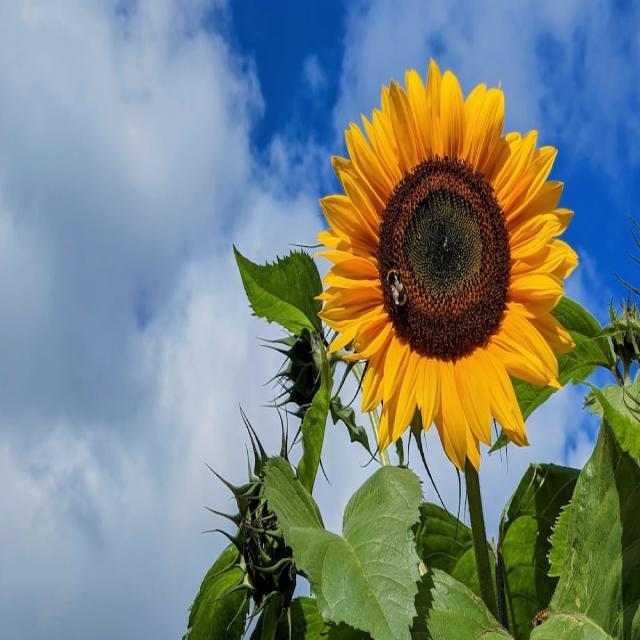sunflower: (307, 49, 582, 485)
